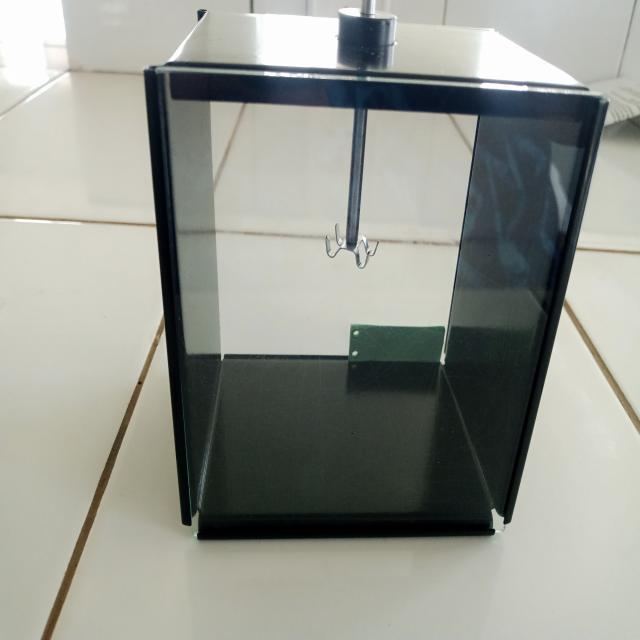Electroscope: (136, 7, 614, 554)
